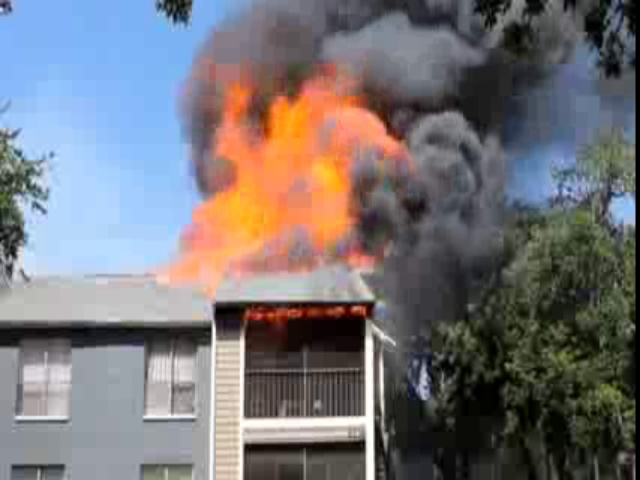fire: (177, 91, 396, 261)
